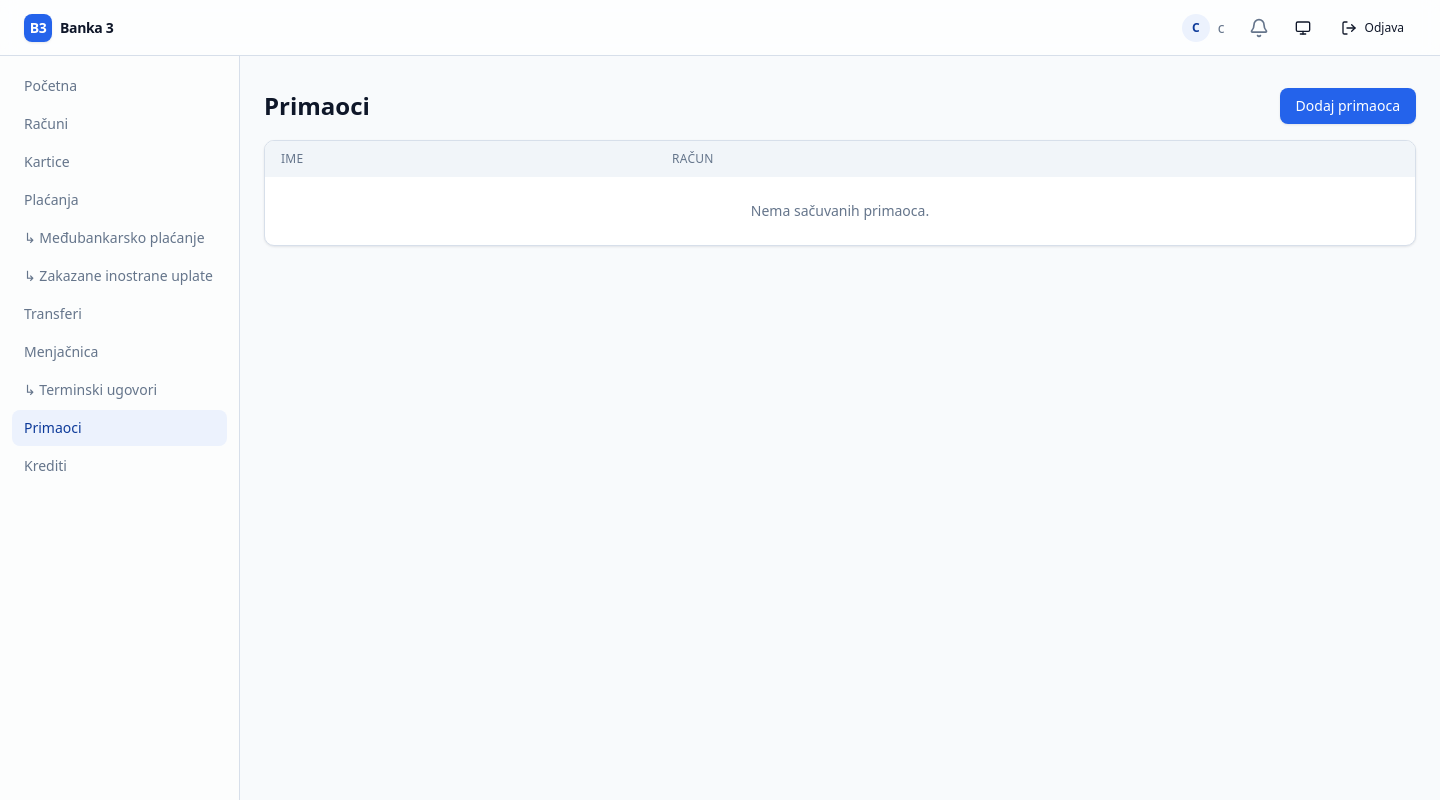
Celina 2 — primaoci › odbacuje primaoca sa neispravnim kontrolnim brojem računa
The width and height of the screenshot is (1440, 800).
Step 1. Click the button "Dodaj primaoca" → [1348, 106], box [1280,88,1416,124]
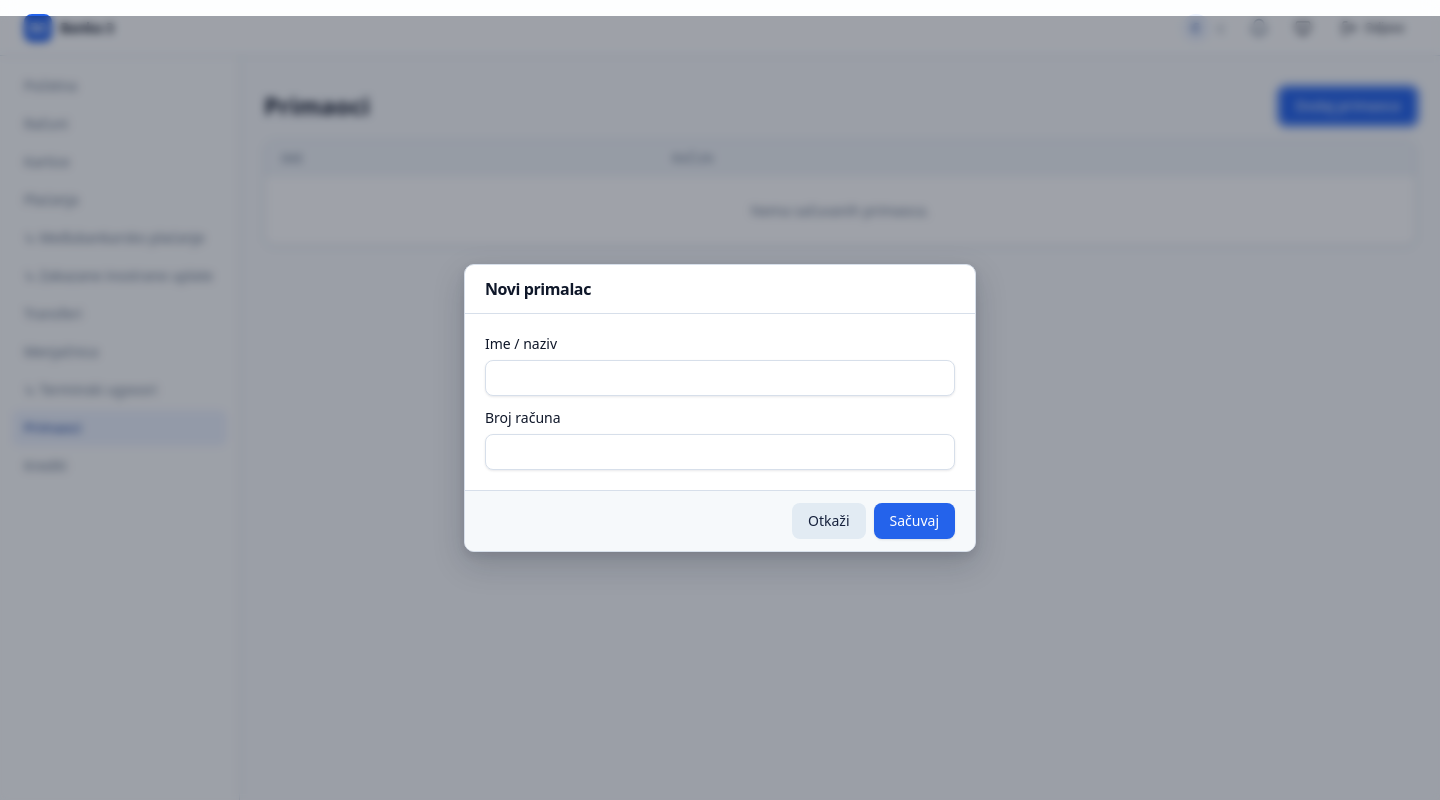
Step 2. Type "Pogrešan" into the field named "name" below "Ime / naziv" → [720, 378], box [485,360,955,396]
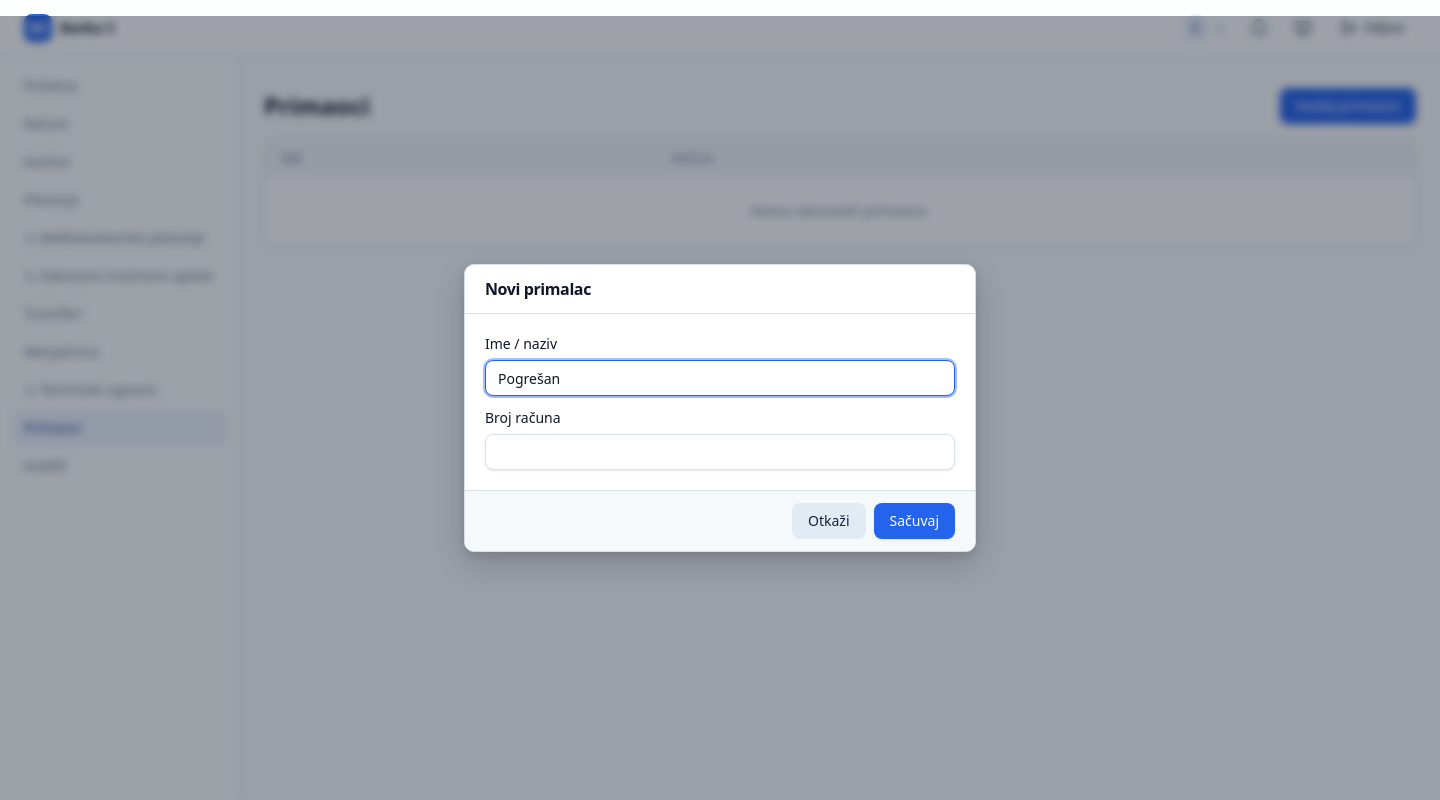
Step 3. Type "160005412345678906" into the field named "accountNumber" below "Broj računa" → [720, 452], box [485,434,955,470]
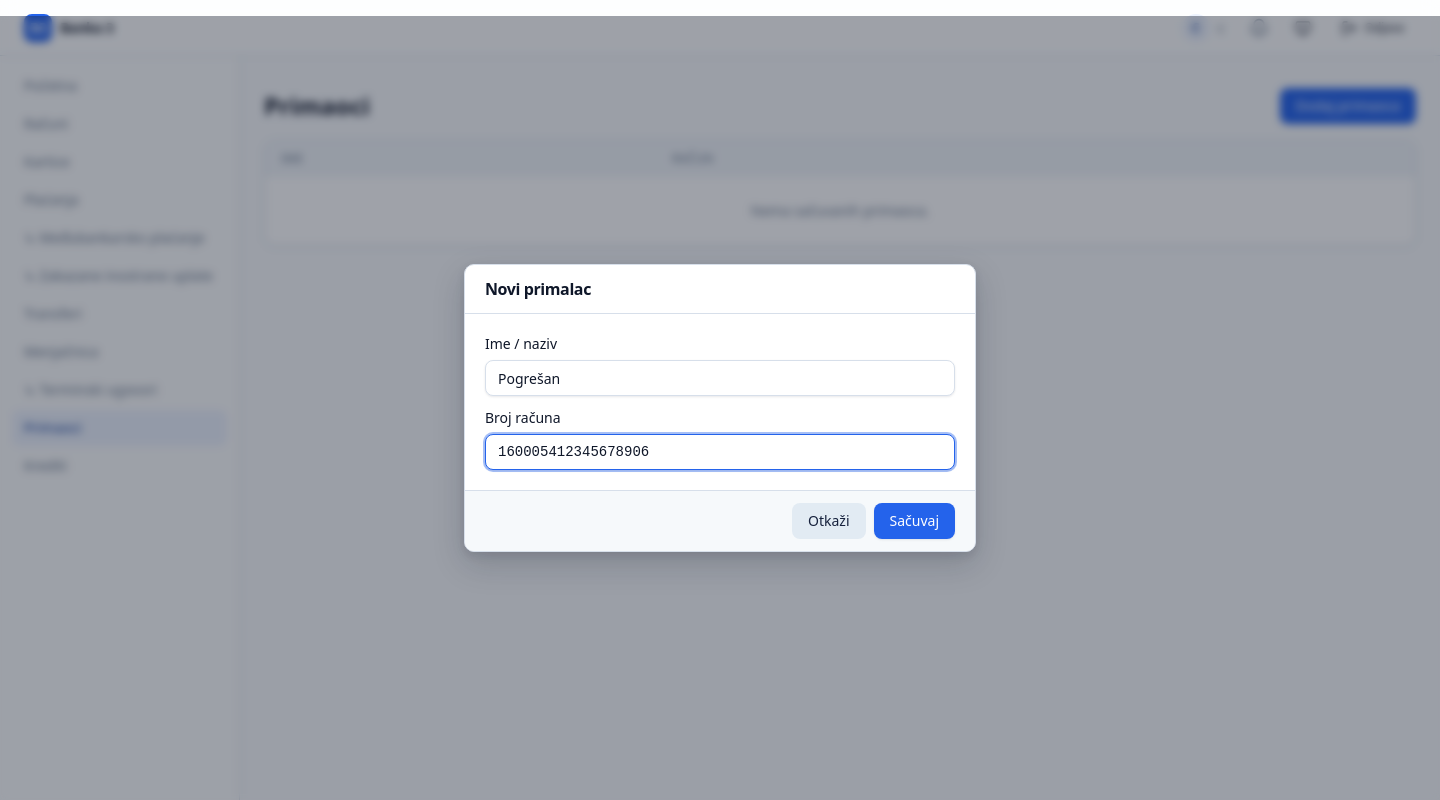
Step 4. Click the button "Sačuvaj" → [915, 521], box [874,503,956,539]
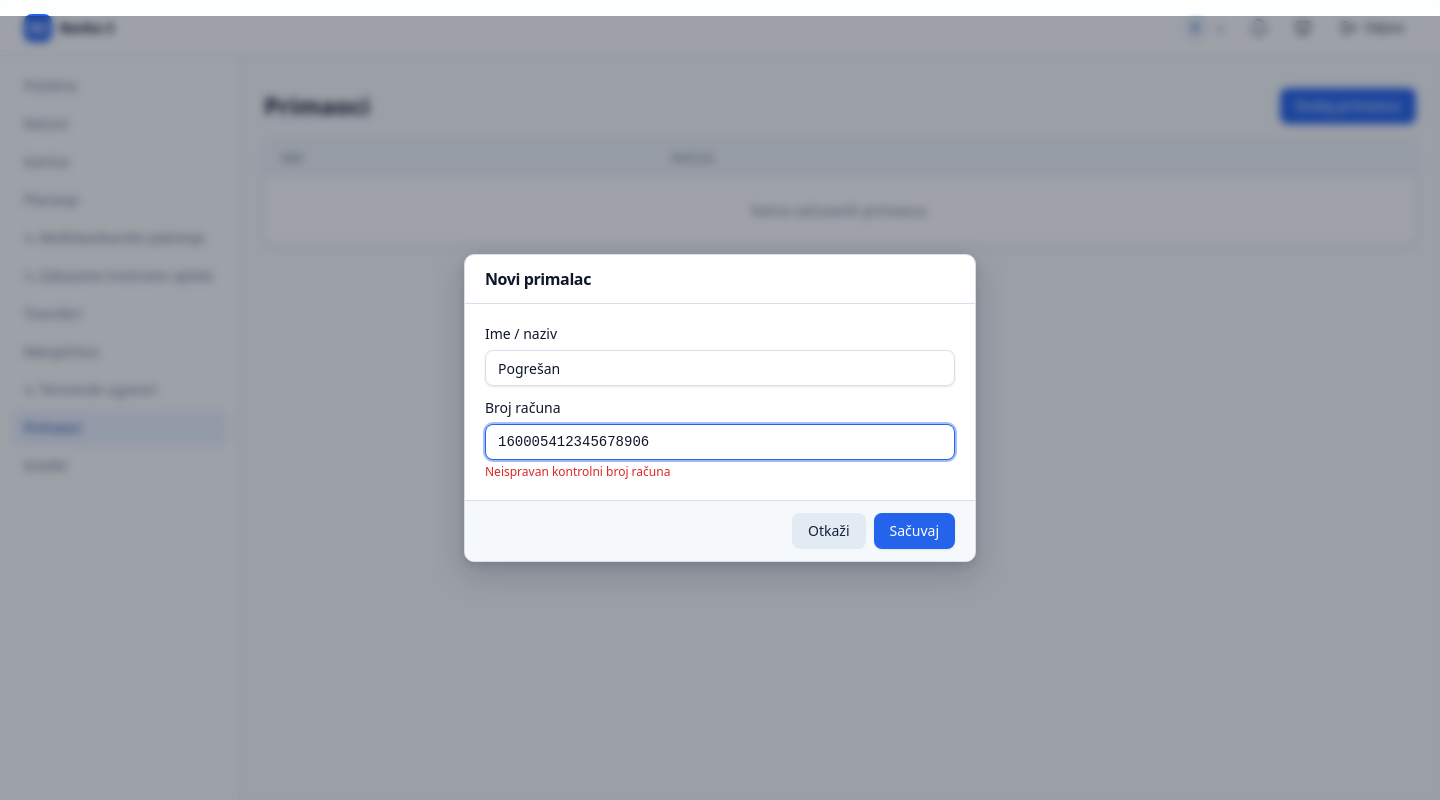
Expected: the text "Neispravan kontrolni broj računa" is shown, [485,463,670,480]
